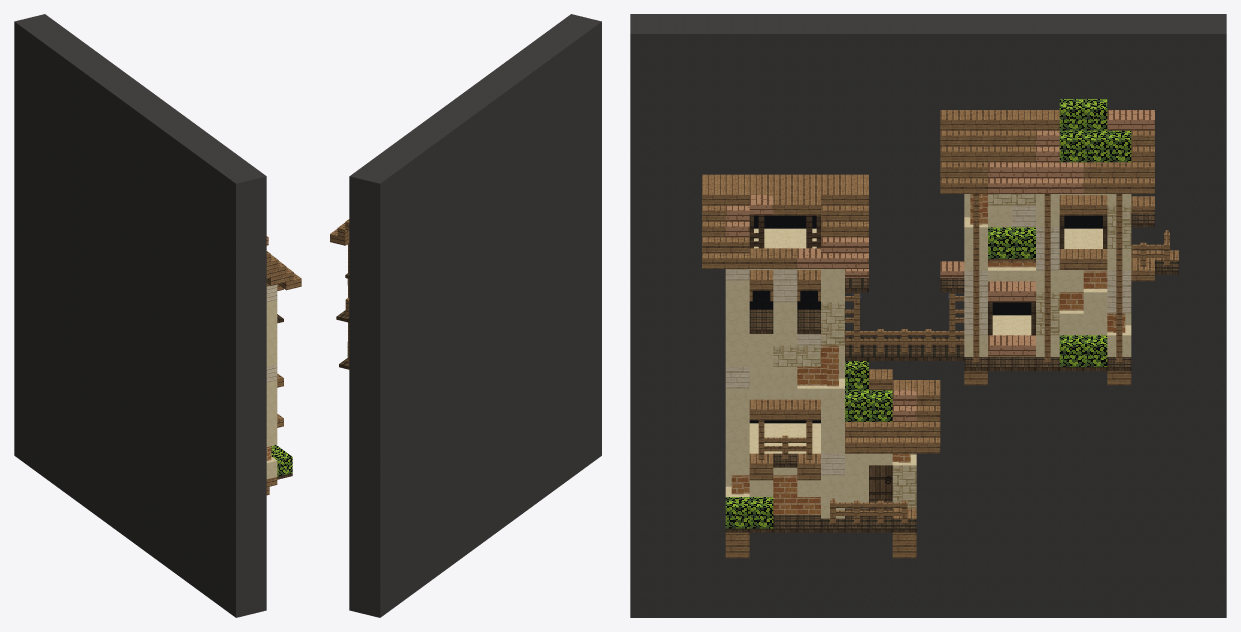
The model's file is Minecraft Hanging Build.glb.
The picture shows the model from 3 angles, left to right: view 1: azimuth 30°, elevation 25°; view 2: azimuth 150°, elevation 25°; view 3: azimuth 270°, elevation 25°; orthographic projection. The views are drawn at different scales.
Visible parts, largest first — view 1: o870.002, o870.003, o870.023, o870.026, o870.027, o870.047, o870.050, o870.051, o844.002, o870.006, o870.019, o870.022 (+17 smaller); view 2: o389.002, o389, o389.086, o389.044, o389.046, o389.051, o389.081, o389.088, o389.004, o389.009, o389.016, o389.023 (+16 smaller); view 3: o1524, o1671, o2055, o672, o1600, o1482, o1534, o1567, o1589, o1602, o1605, o1638 (+25 smaller).
Part boxes in pixels (x1=…): o870.002: x1=227, y1=173, x2=251, y2=199; o870.003: x1=227, y1=194, x2=251, y2=215; o870.023: x1=227, y1=354, x2=251, y2=376; o870.026: x1=227, y1=370, x2=251, y2=392; o870.027: x1=227, y1=386, x2=251, y2=408; o870.047: x1=227, y1=547, x2=251, y2=569; o870.050: x1=227, y1=563, x2=251, y2=585; o870.051: x1=227, y1=579, x2=251, y2=601; o844.002: x1=227, y1=596, x2=251, y2=617; o870.006: x1=227, y1=210, x2=251, y2=231; o870.019: x1=227, y1=322, x2=251, y2=344; o870.022: x1=227, y1=338, x2=251, y2=360; o389.002: x1=365, y1=173, x2=388, y2=199; o389: x1=349, y1=170, x2=373, y2=195; o389.086: x1=365, y1=563, x2=388, y2=585; o389.044: x1=365, y1=370, x2=388, y2=392; o389.046: x1=365, y1=386, x2=388, y2=408; o389.051: x1=365, y1=403, x2=388, y2=424; o389.081: x1=365, y1=547, x2=388, y2=569; o389.088: x1=365, y1=579, x2=388, y2=601; o389.004: x1=365, y1=194, x2=388, y2=215; o389.009: x1=365, y1=210, x2=388, y2=231; o389.016: x1=365, y1=242, x2=388, y2=263; o389.023: x1=365, y1=274, x2=388, y2=296; o1524: x1=1107, y1=130, x2=1131, y2=162; o1671: x1=1059, y1=130, x2=1083, y2=162; o2055: x1=940, y1=130, x2=964, y2=162; o672: x1=725, y1=205, x2=749, y2=237; o1600: x1=1083, y1=130, x2=1107, y2=162; o1482: x1=1107, y1=24, x2=1131, y2=55; o1534: x1=1107, y1=162, x2=1131, y2=193; o1567: x1=1083, y1=24, x2=1107, y2=55; o1589: x1=1083, y1=99, x2=1107, y2=130; o1602: x1=1083, y1=335, x2=1107, y2=366; o1605: x1=1083, y1=162, x2=1107, y2=193; o1638: x1=1059, y1=24, x2=1083, y2=55.
Bounding box in the file's own units: 6 × 27 × 25.
Materials: 16 (16 with a texture image).
